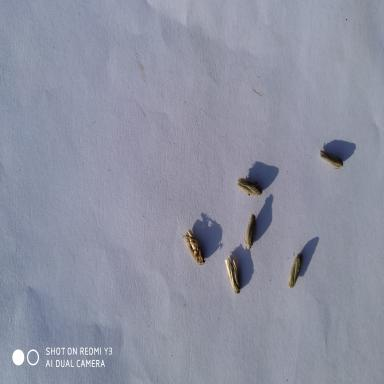pbw: (180, 229, 209, 269), (222, 252, 247, 298), (316, 146, 350, 174), (232, 177, 269, 201), (285, 249, 305, 292), (243, 211, 257, 255)
